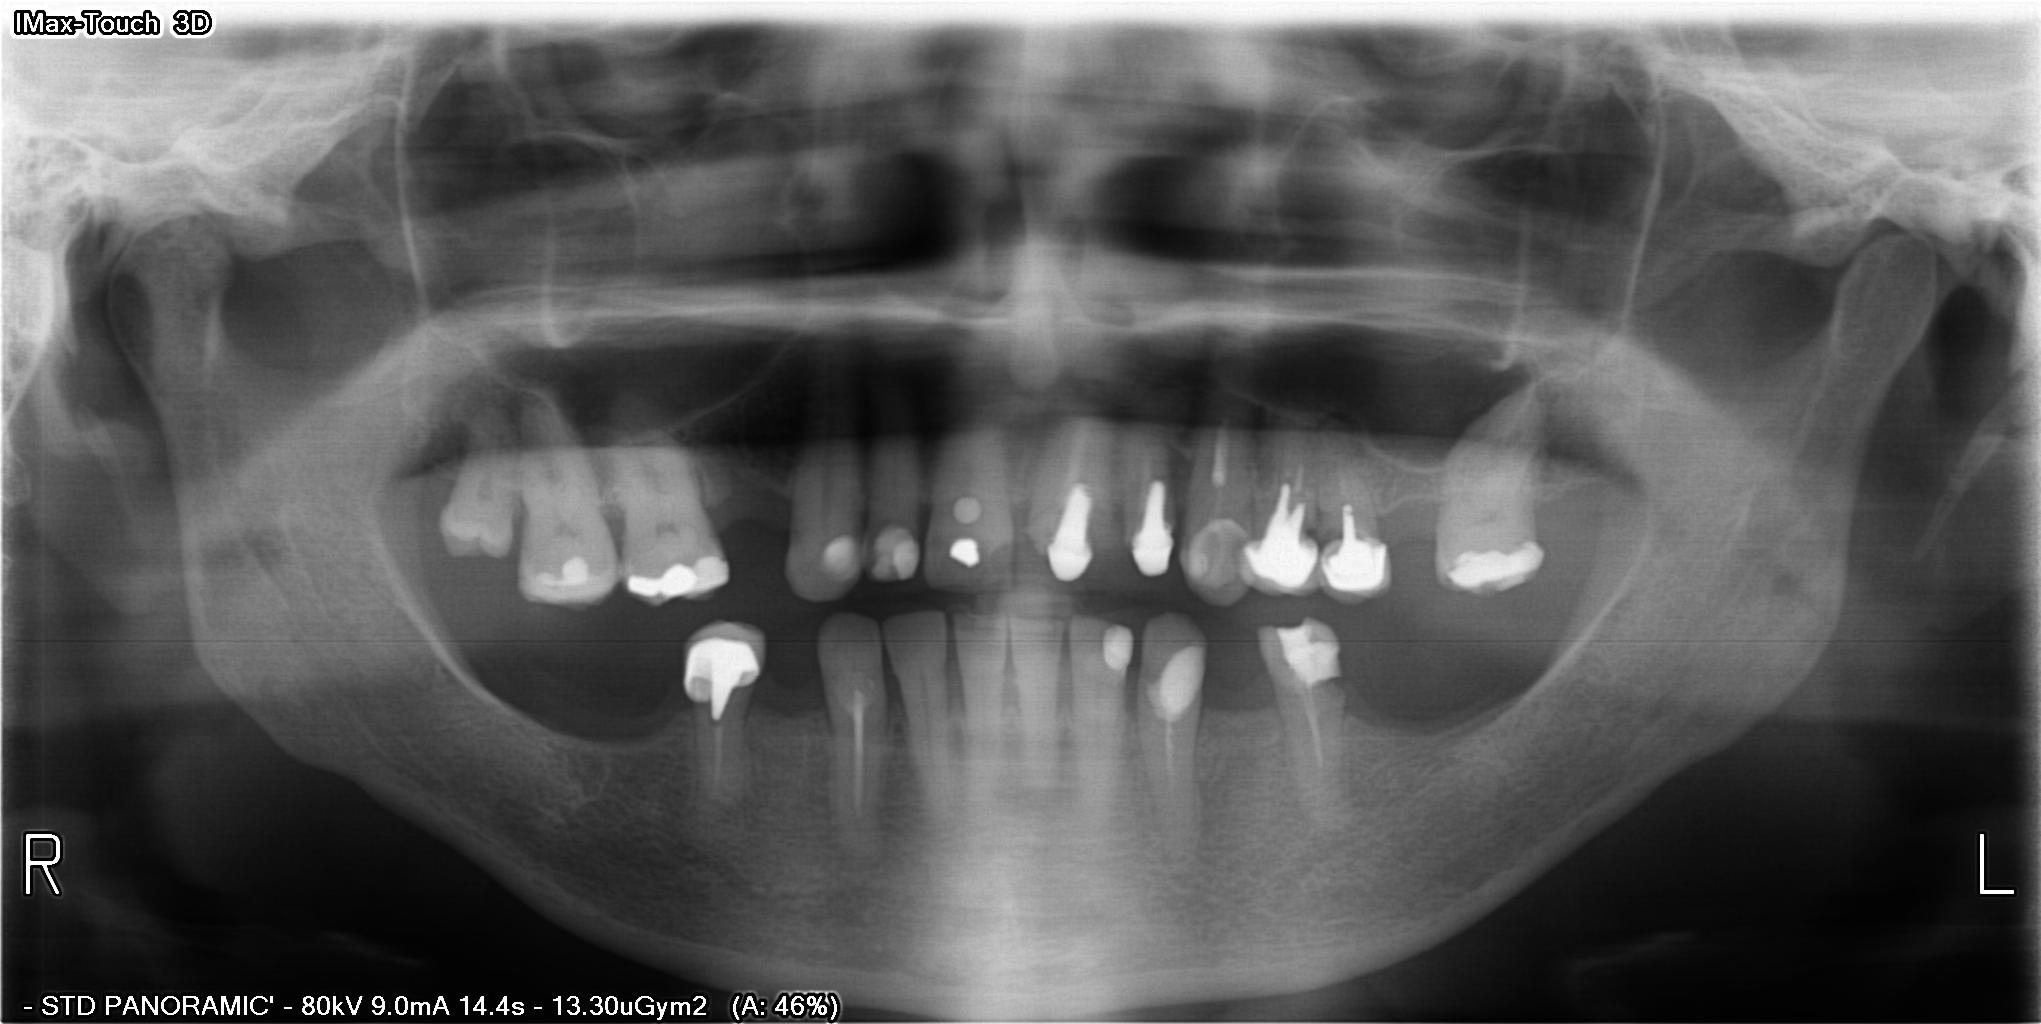Çürük: (680, 614, 786, 726), (1035, 481, 1105, 588), (1186, 512, 1258, 600), (1240, 510, 1318, 590), (1152, 630, 1218, 724), (1442, 536, 1547, 589), (1128, 472, 1180, 574), (623, 558, 738, 600), (1271, 617, 1344, 676), (1322, 533, 1388, 597), (865, 529, 927, 588), (550, 554, 602, 598), (823, 528, 856, 594), (936, 496, 988, 526), (1107, 622, 1130, 682), (950, 542, 988, 574)
Çürük Bölgesi: (1316, 662, 1343, 698)
